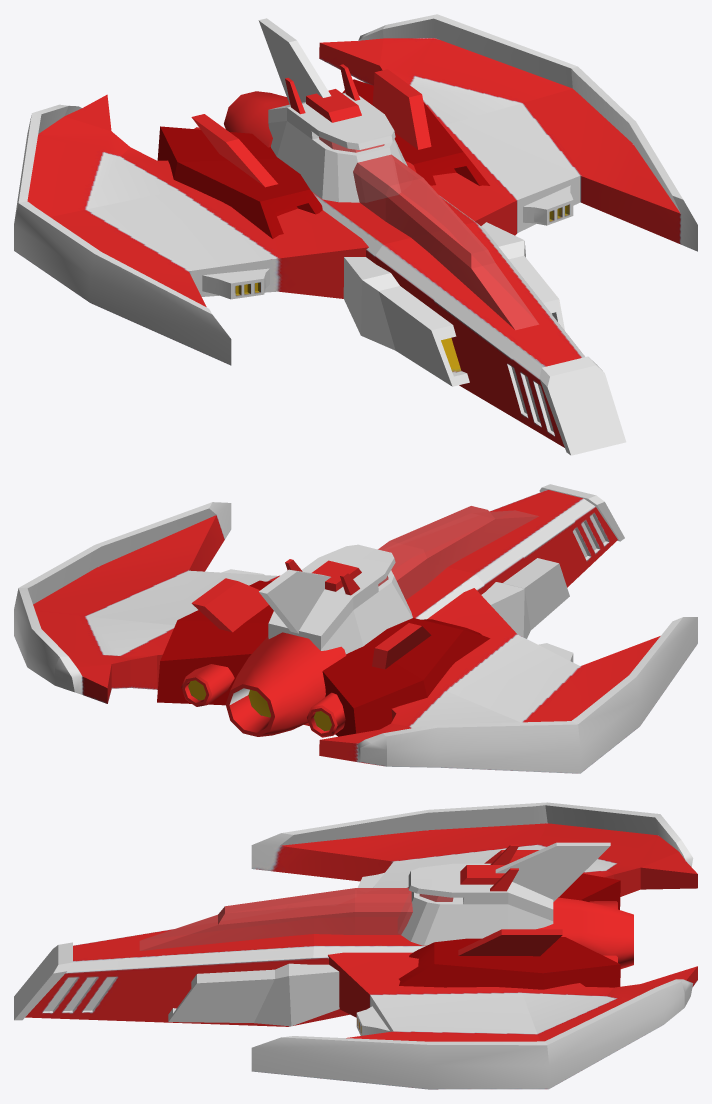
File: red.fbx
The picture shows the model from 3 angles, top to bottom: view 1: azimuth 30°, elevation 25°; view 2: azimuth 150°, elevation 25°; view 3: azimuth 270°, elevation 25°; orthographic projection. The views are drawn at different scales.
Parts seen in each view (by area): view 1: S_01:S_01; view 2: S_01:S_01; view 3: S_01:S_01.
Part boxes in pixels (box(x1,y1,x2,y2)): S_01:S_01: box(14, 14, 697, 455); S_01:S_01: box(14, 484, 697, 773); S_01:S_01: box(14, 802, 697, 1089).
Size of the model in its own units: 3106 by 966 by 3654.
Materials: 2 (1 with a texture image).
